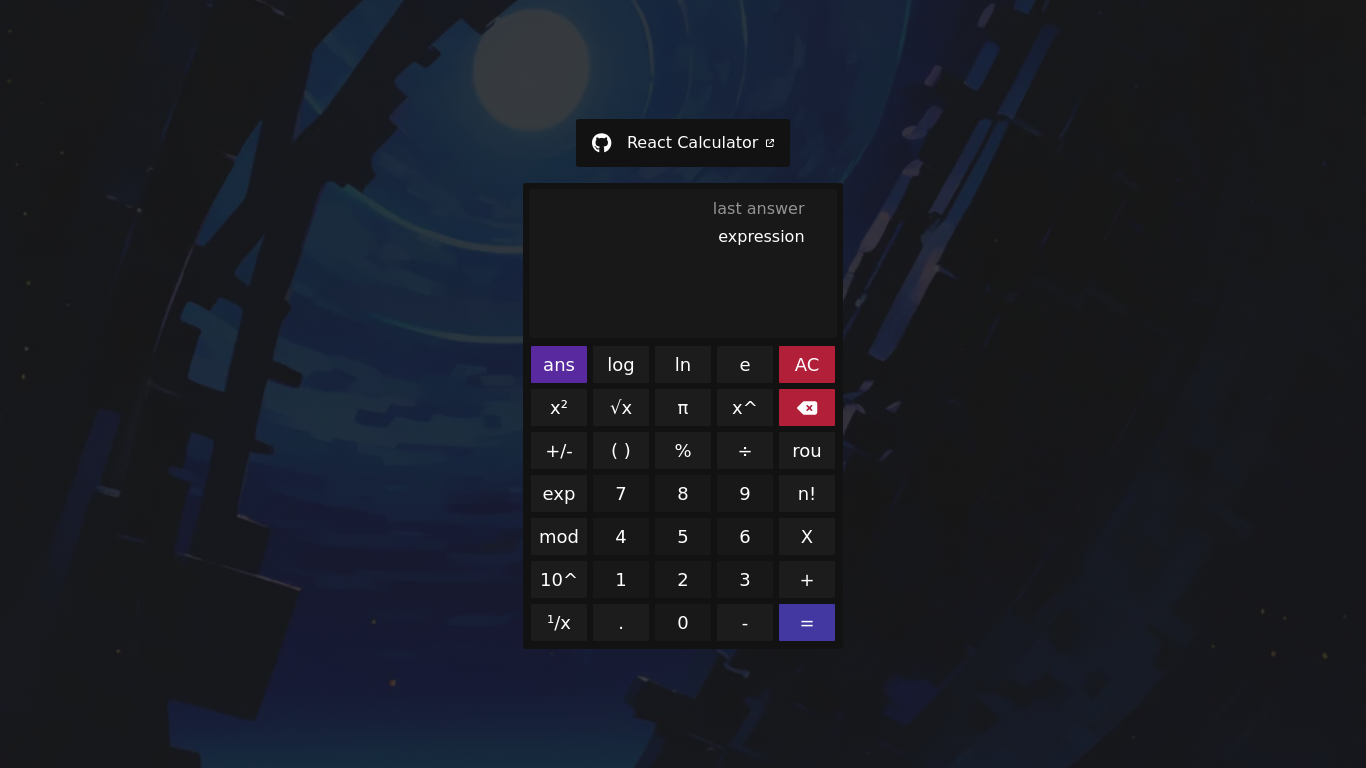
it: Fast exponentiation with base 10 › 10 ^ 2
The width and height of the screenshot is (1366, 768).
Click the button "10^".
click(559, 580)  # box [529,559,589,600]
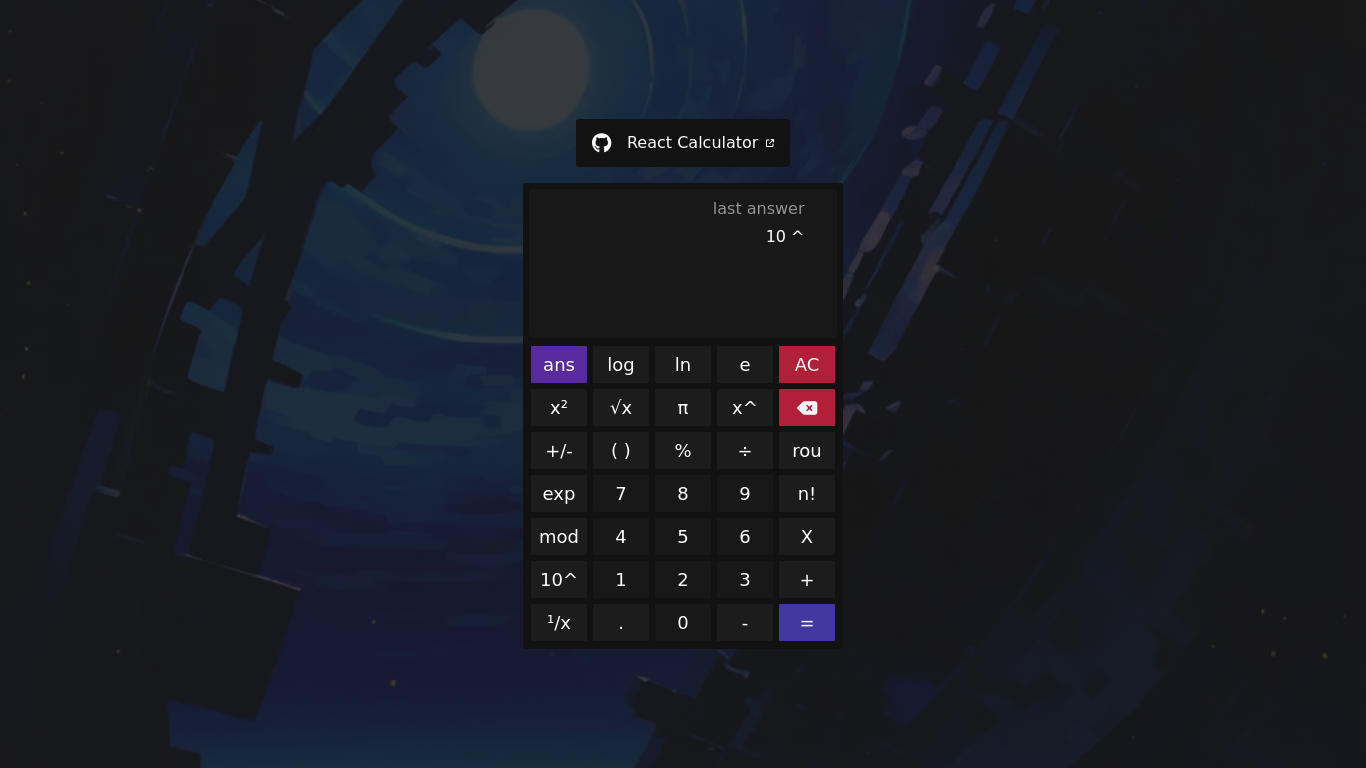
Click the button "2".
click(683, 580)  # box [653,559,713,600]
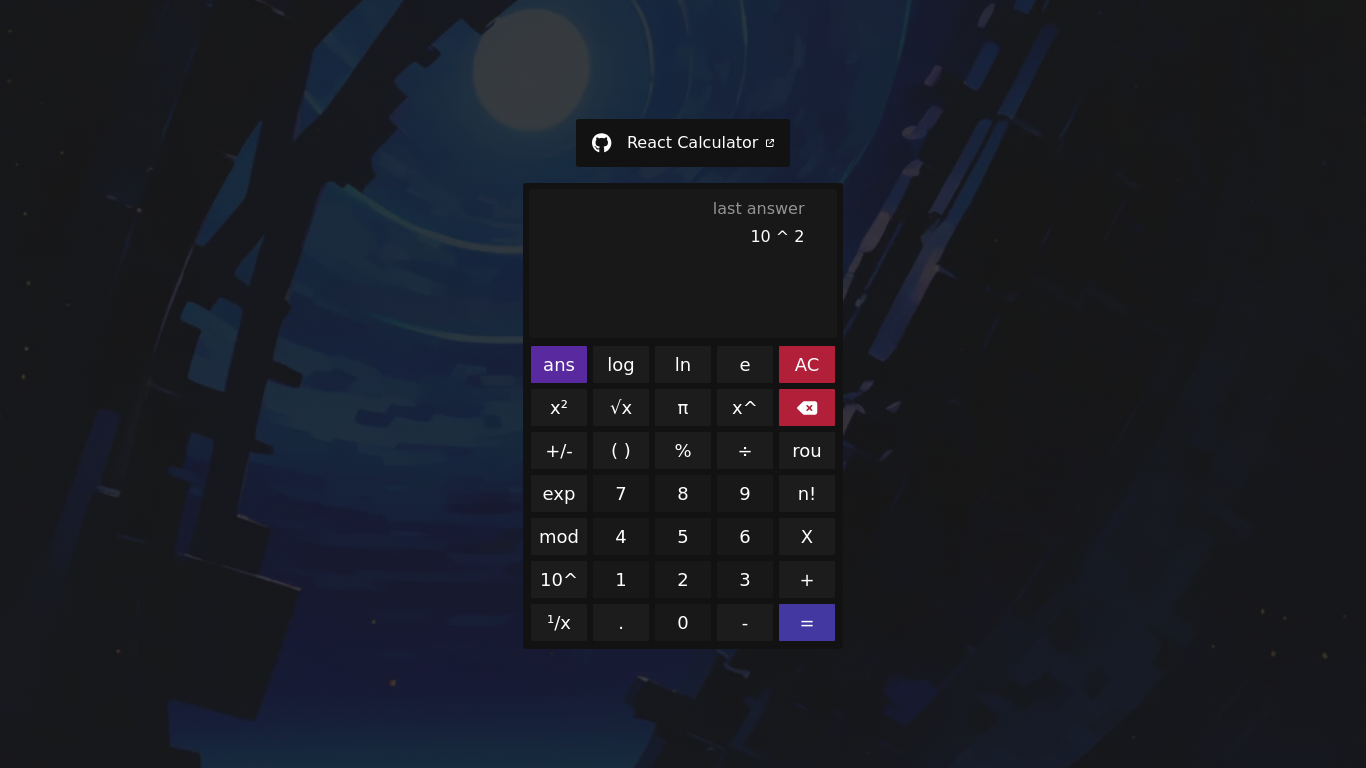
Click the button "=".
click(807, 623)  # box [777,602,837,643]
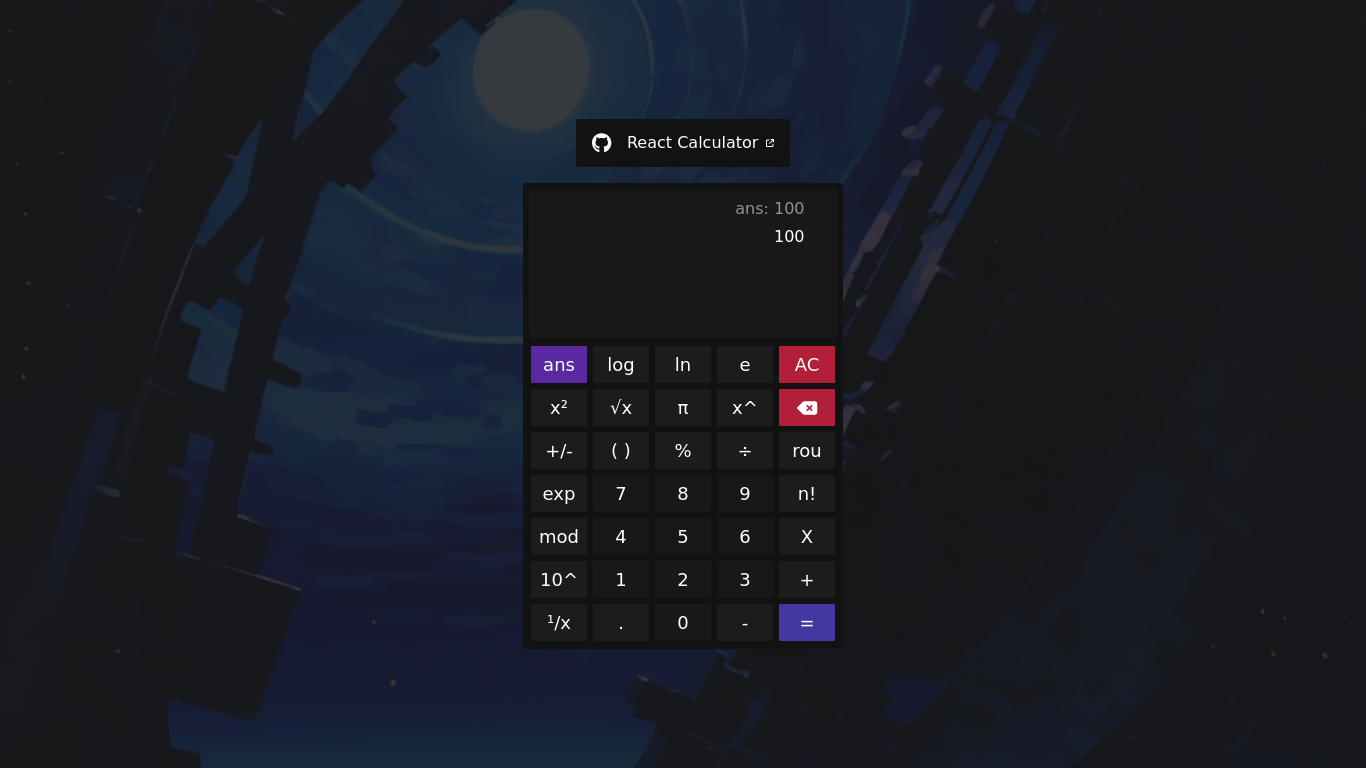
Check: the text with test id "expression" reads "100", box [774,227,804,246]
